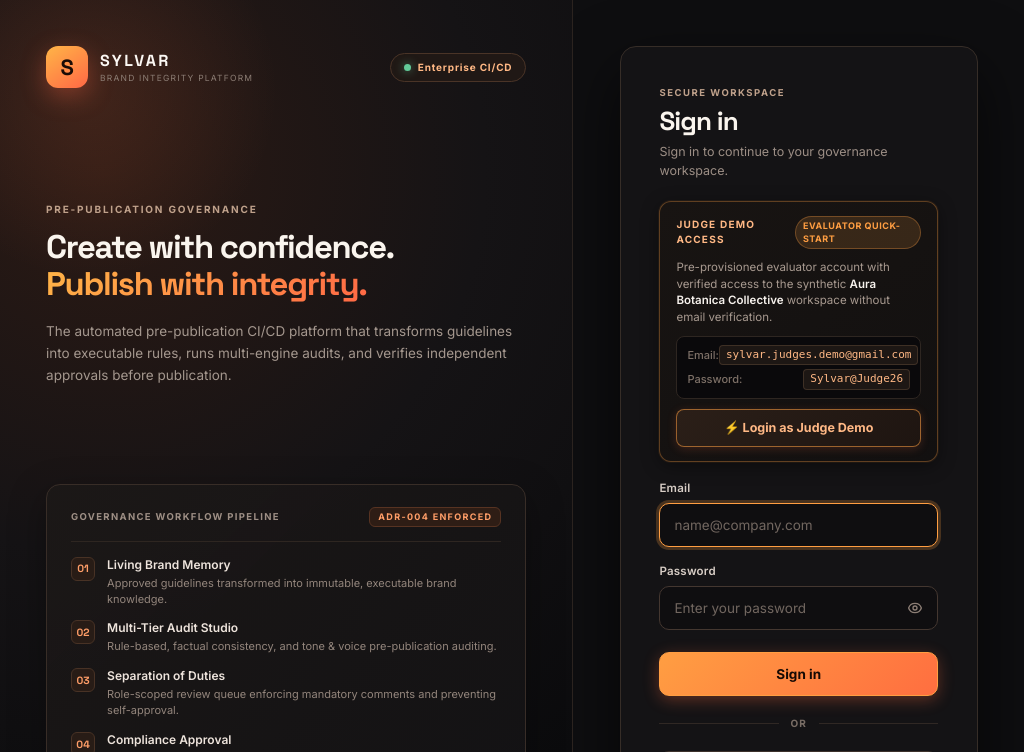
Scenario: toggles password visibility when show/hide button is clicked
The image size is (1024, 752).
Click the button named "Show password" at (915, 608), box [900, 593, 930, 623]
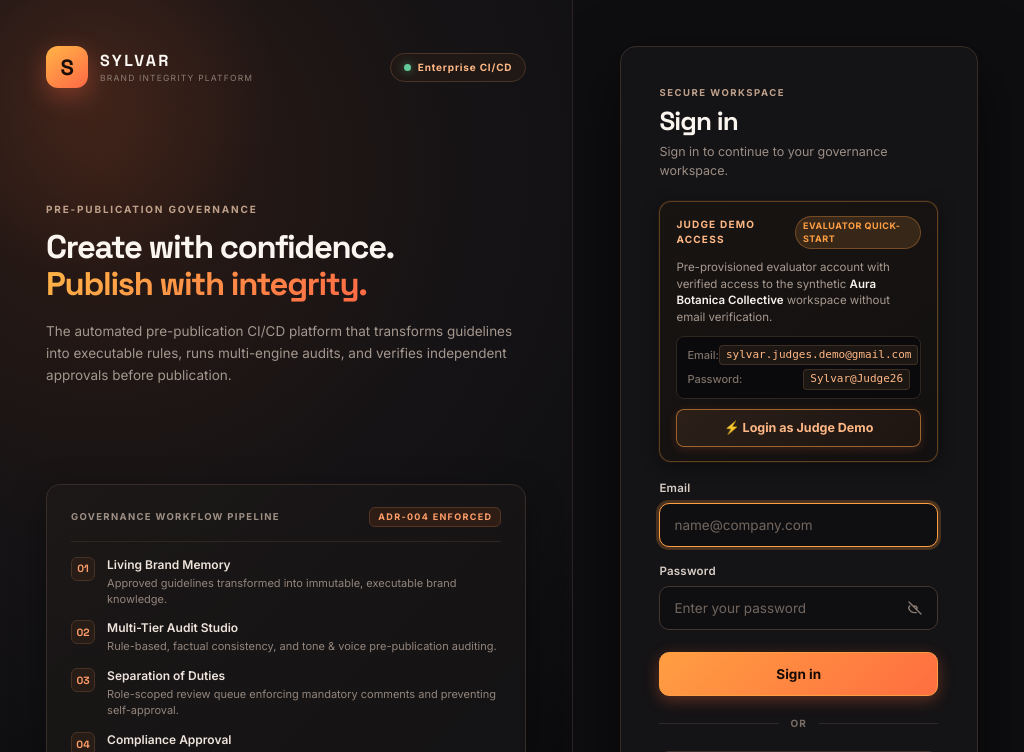
expect the button named "Hide password" is shown: met
Click the button named "Hide password" at (915, 608), box [900, 593, 930, 623]
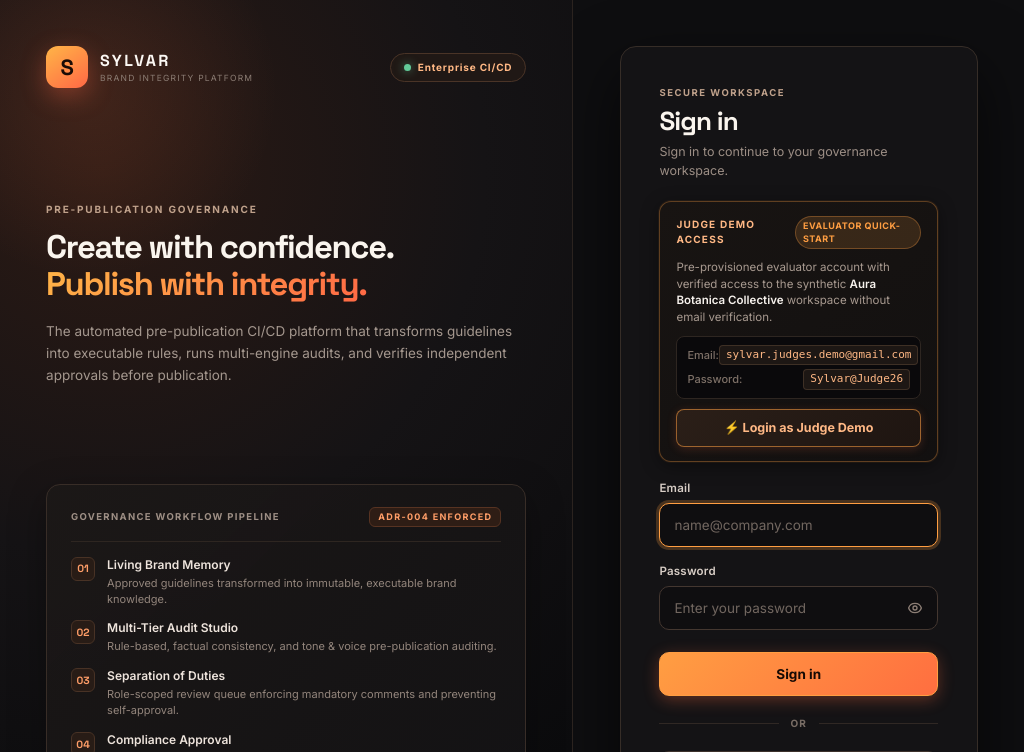
expect the button named "Show password" is shown: met, box [900, 593, 930, 623]
